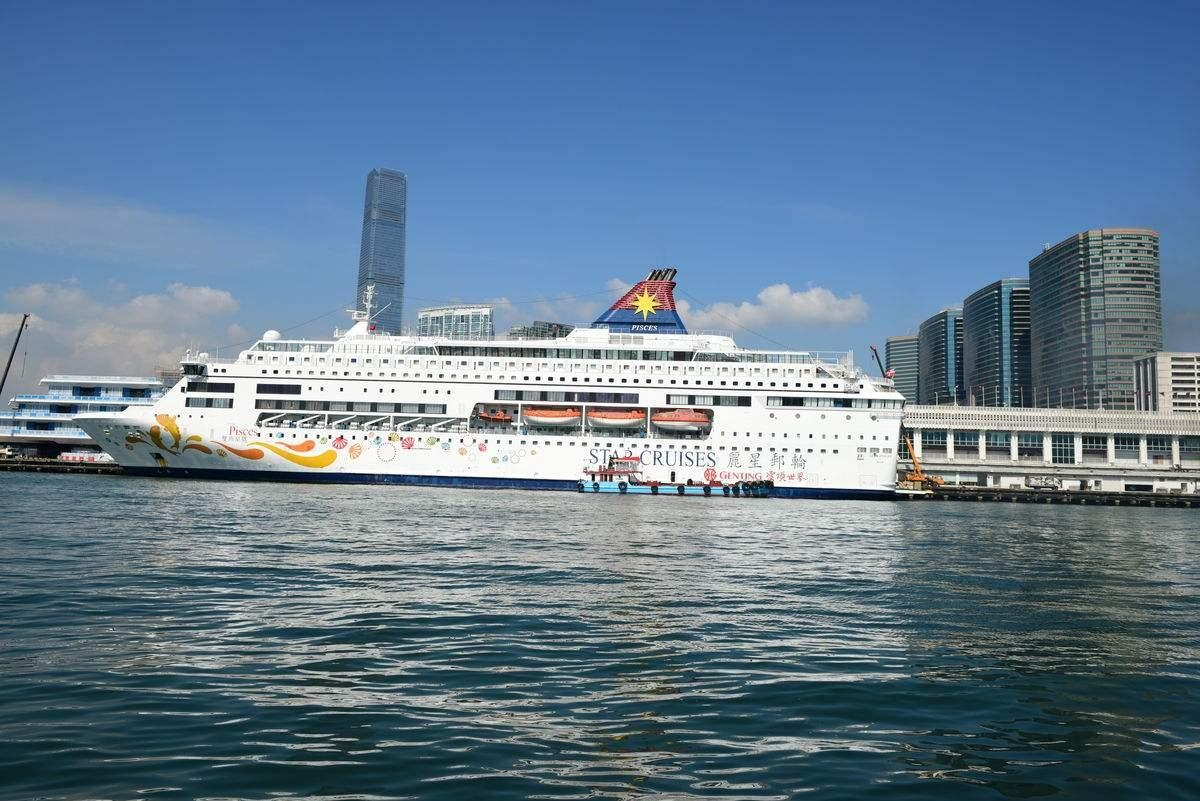otherboat: (571, 454, 779, 498)
youlun: (75, 274, 922, 479)
